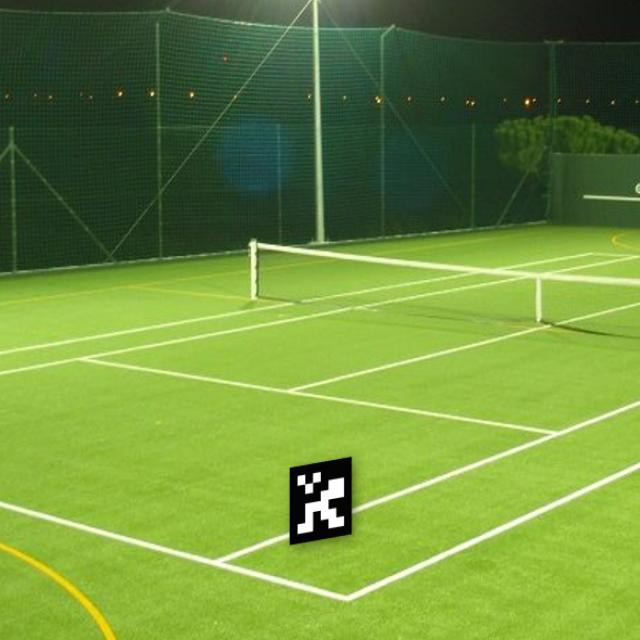marker: (280, 447, 370, 550)
